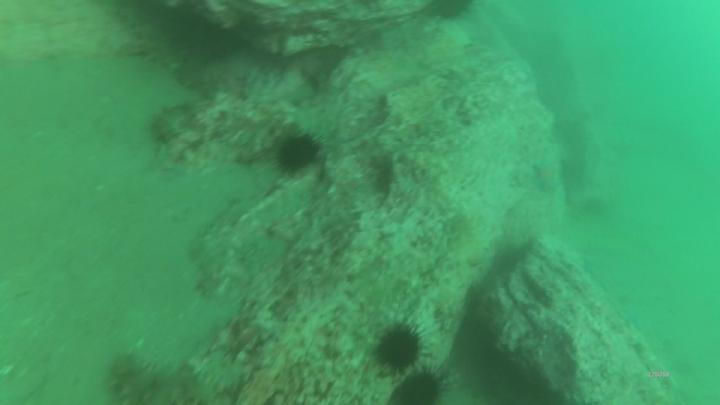echinus: (374, 321, 428, 381), (269, 132, 326, 178), (389, 366, 446, 405), (419, 1, 477, 23)
holothurian: (107, 354, 213, 405)
